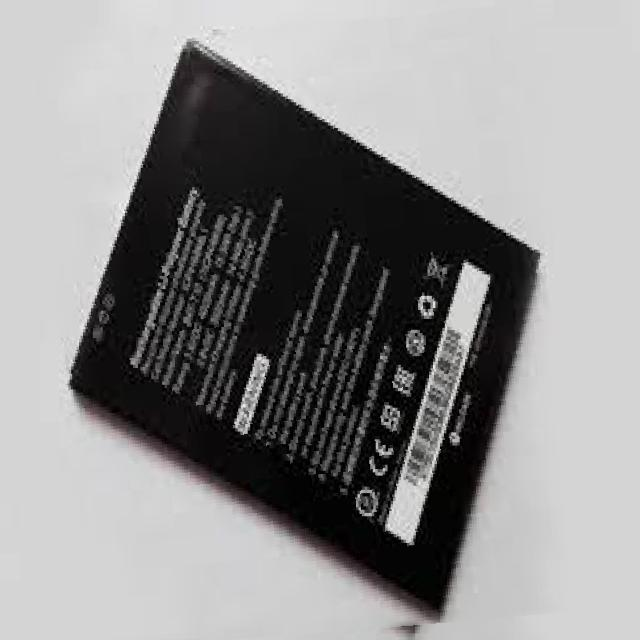Battery: (49, 11, 583, 627)
